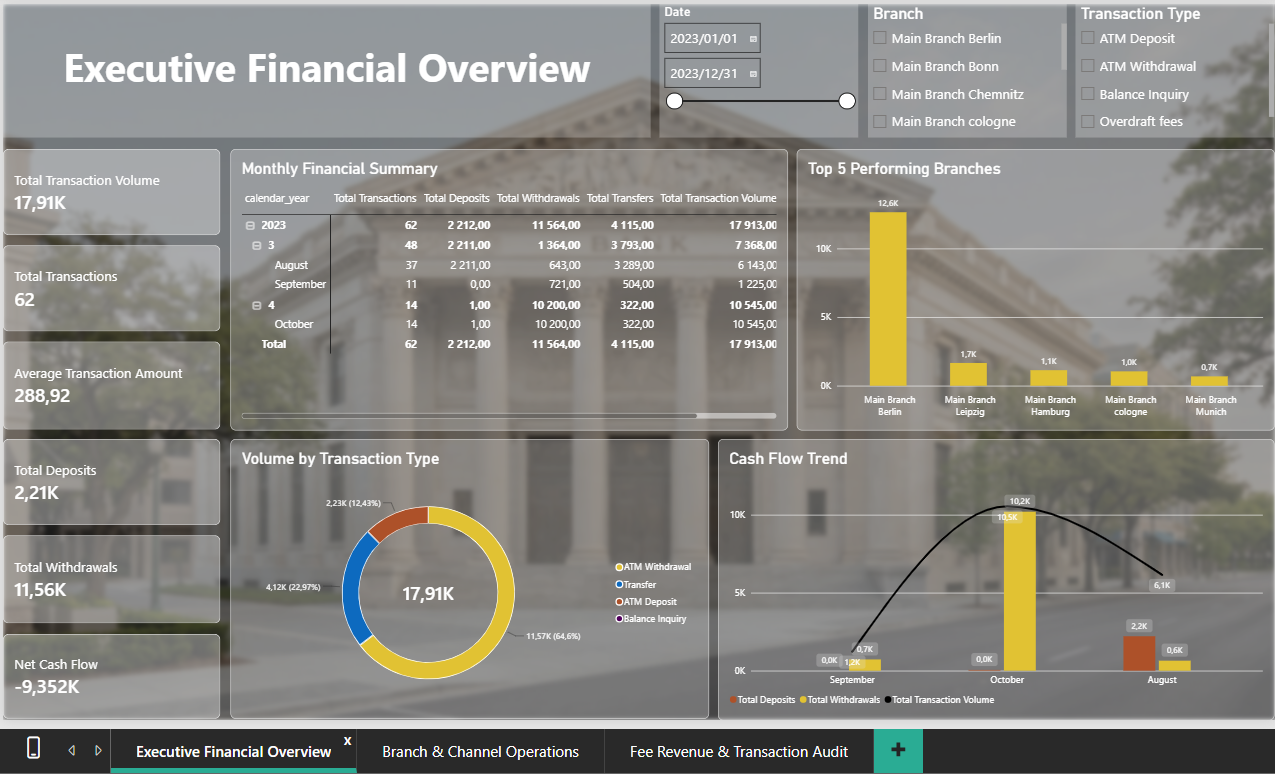

The dashboard page shown, as its layout file describes it:
{"tool":"powerbi","page":{"name":"Executive Financial Overview","canvas":[1920,1080],"ordinal":0},"visuals":[{"type":"image","box":[0,0,1920.4,1080.6],"z":0},{"type":"lineClusteredColumnComboChart","title":"Cash Flow Trend","fields":{"Category":["dw dim_date.month_name"],"Y":["dw fact_transactions.Total Deposits","dw fact_transactions.Total Withdrawals"],"Y2":["dw fact_transactions.Total Transaction Volume"]},"box":[1079.2,656.6,839.6,424.5],"z":1000},{"type":"donutChart","title":"Volume by Transaction Type","fields":{"Category":["dw dim_transaction_type.transaction_type_name"],"Y":["dw fact_transactions.Total Transaction Volume"]},"box":[343.4,656.6,722.6,422.6],"z":2000},{"type":"clusteredColumnChart","title":"Top 5 Performing Branches","fields":{"Category":["dw dim_branch.branch_name"],"Y":["dw fact_transactions.Total Transaction Volume"]},"box":[1198.2,219,721.5,425.2],"z":3000},{"type":"slicer","fields":{"Values":["dw dim_transaction_type.transaction_type_name"]},"box":[1618.9,0,300,201.9],"z":4000},{"type":"slicer","fields":{"Values":["dw dim_branch.branch_name"]},"box":[1305.7,0,300,201.9],"z":5000},{"type":"slicer","fields":{"Values":["dw dim_date.full_date"]},"box":[990.6,0,300,201.9],"z":6000},{"type":"textbox","box":[0,0,977.4,201.9],"z":7000},{"type":"cardVisual","fields":{"Data":["dw fact_transactions.Total Transaction Volume"]},"box":[0,218.9,328.3,130.2],"z":8000},{"type":"cardVisual","fields":{"Data":["dw fact_transactions.Total Transactions"]},"box":[0,364.2,328.3,130.2],"z":9000},{"type":"cardVisual","fields":{"Data":["dw fact_transactions.Average Transaction Amount"]},"box":[0,509.4,328.3,134],"z":10000},{"type":"cardVisual","fields":{"Data":["dw fact_transactions.Total Deposits"]},"box":[0,656.6,328.3,130.2],"z":11000},{"type":"cardVisual","fields":{"Data":["dw fact_transactions.Total Withdrawals"]},"box":[0,801.9,328.3,134],"z":12000},{"type":"cardVisual","fields":{"Data":["dw dim_account.Net Cash Flow"]},"box":[0,950.9,328.3,128.3],"z":13000},{"type":"pivotTable","title":"Monthly Financial Summary","fields":{"Rows":["dw dim_date.calendar_year","dw dim_date.calendar_quarter","dw dim_date.month_name"],"Values":["dw fact_transactions.Total Transactions","dw fact_transactions.Total Deposits","dw fact_transactions.Total Withdrawals","dw fact_transactions.Total Transfers","dw fact_transactions.Total Transaction Volume","dw dim_account.Net Cash Flow"]},"box":[343.4,218.9,841.5,424.5],"z":14000}]}

Visuals, with their boxes on the page's 1920x1080 design canvas (x1, y1, x2, y2). These are canvas units, not pixel positions in the 1275x774 screenshot, which may show the page scaled, cropped or inside an application window:
image: <region>0, 0, 1920, 1081</region>
"Cash Flow Trend" lineClusteredColumnComboChart: <region>1079, 657, 1919, 1081</region>
"Volume by Transaction Type" donutChart: <region>343, 657, 1066, 1079</region>
"Top 5 Performing Branches" clusteredColumnChart: <region>1198, 219, 1920, 644</region>
slicer - dw dim_transaction_type.transaction_type_name: <region>1619, 0, 1919, 202</region>
slicer - dw dim_branch.branch_name: <region>1306, 0, 1606, 202</region>
slicer - dw dim_date.full_date: <region>991, 0, 1291, 202</region>
textbox: <region>0, 0, 977, 202</region>
cardVisual - dw fact_transactions.Total Transaction Volume: <region>0, 219, 328, 349</region>
cardVisual - dw fact_transactions.Total Transactions: <region>0, 364, 328, 494</region>
cardVisual - dw fact_transactions.Average Transaction Amount: <region>0, 509, 328, 643</region>
cardVisual - dw fact_transactions.Total Deposits: <region>0, 657, 328, 787</region>
cardVisual - dw fact_transactions.Total Withdrawals: <region>0, 802, 328, 936</region>
cardVisual - dw dim_account.Net Cash Flow: <region>0, 951, 328, 1079</region>
"Monthly Financial Summary" pivotTable: <region>343, 219, 1185, 643</region>
